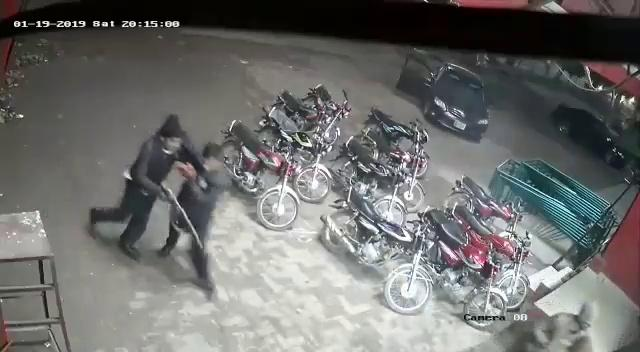weapon: (154, 176, 206, 250)
